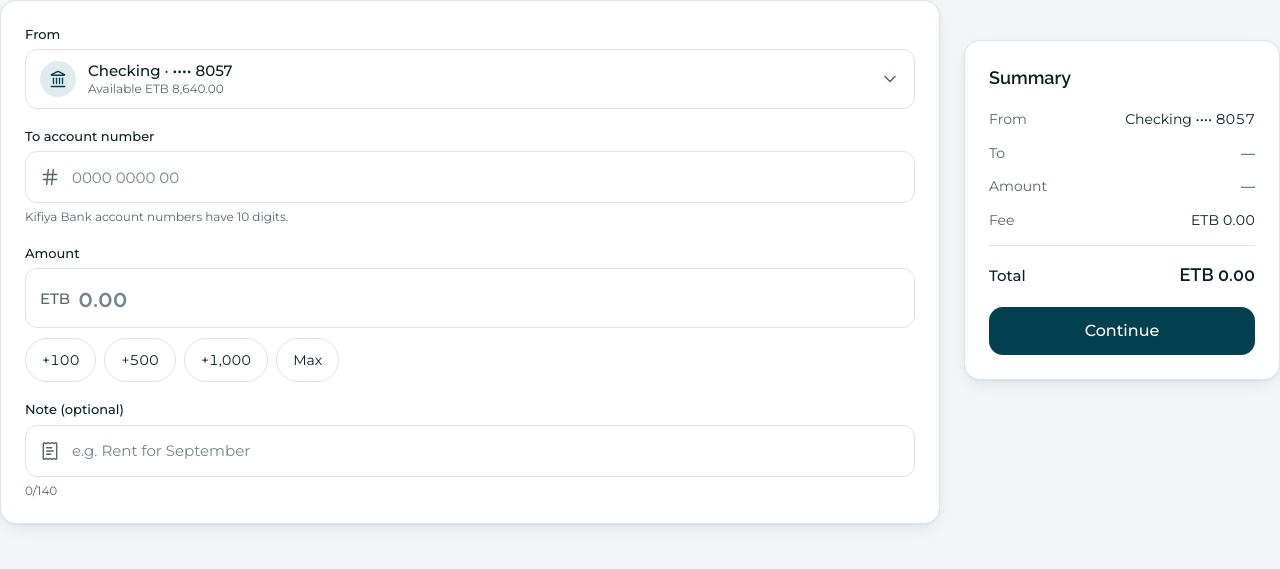
Test: TransferForm › formats the amount when leaving the field
This screenshot has width=1280, height=569.
Step 1. Type "9000" into the field named "Amount in ETB" → (489, 298), box x1=78 y1=282 x2=900 y2=315
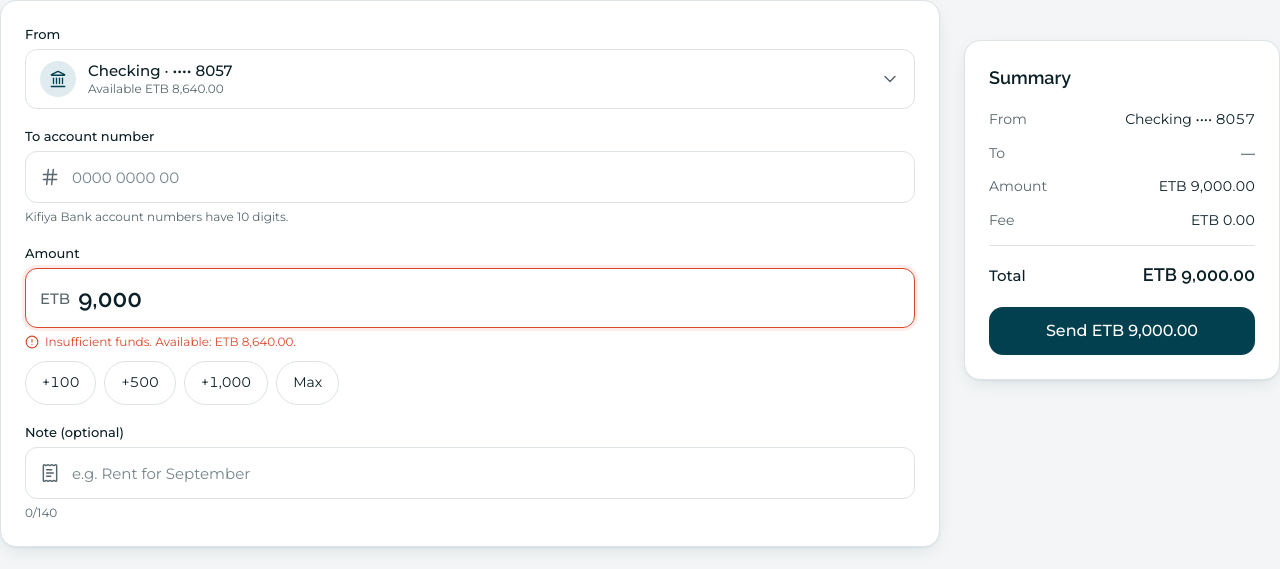
Step 2. Press Tab
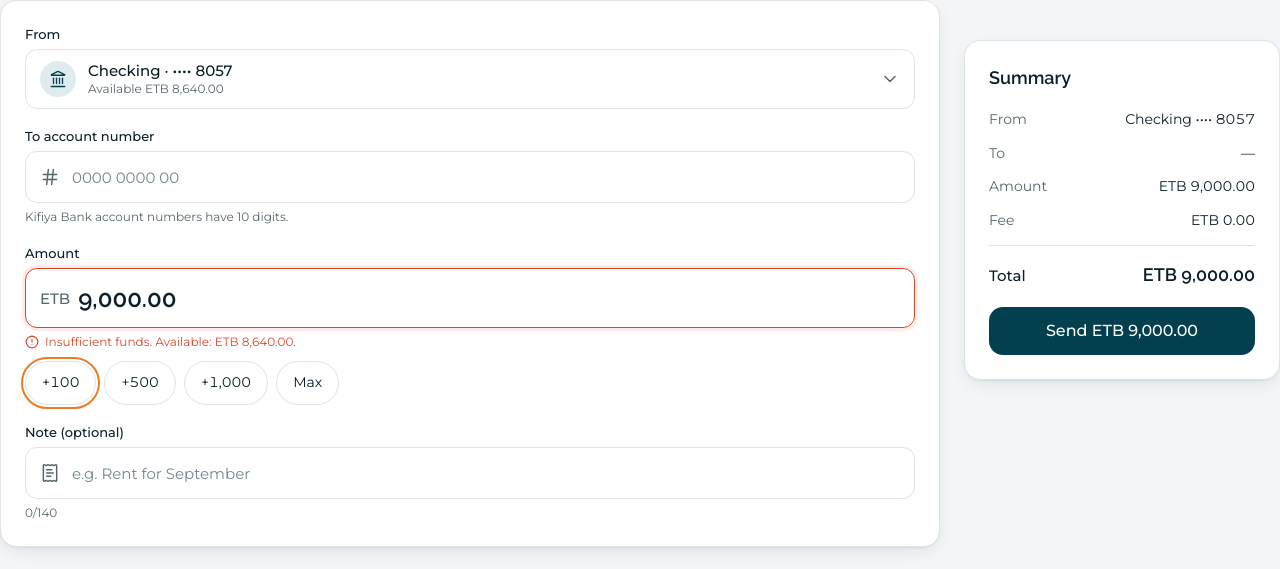
Now the field named "Amount in ETB" holds "9,000.00", box x1=78 y1=282 x2=900 y2=315
